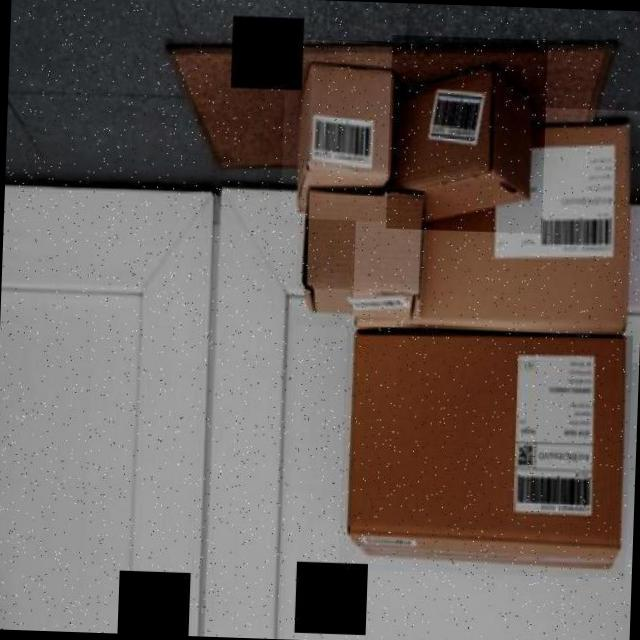box: (350, 99, 640, 362), (338, 325, 632, 579), (385, 33, 548, 232), (280, 38, 409, 222), (294, 171, 426, 329)
